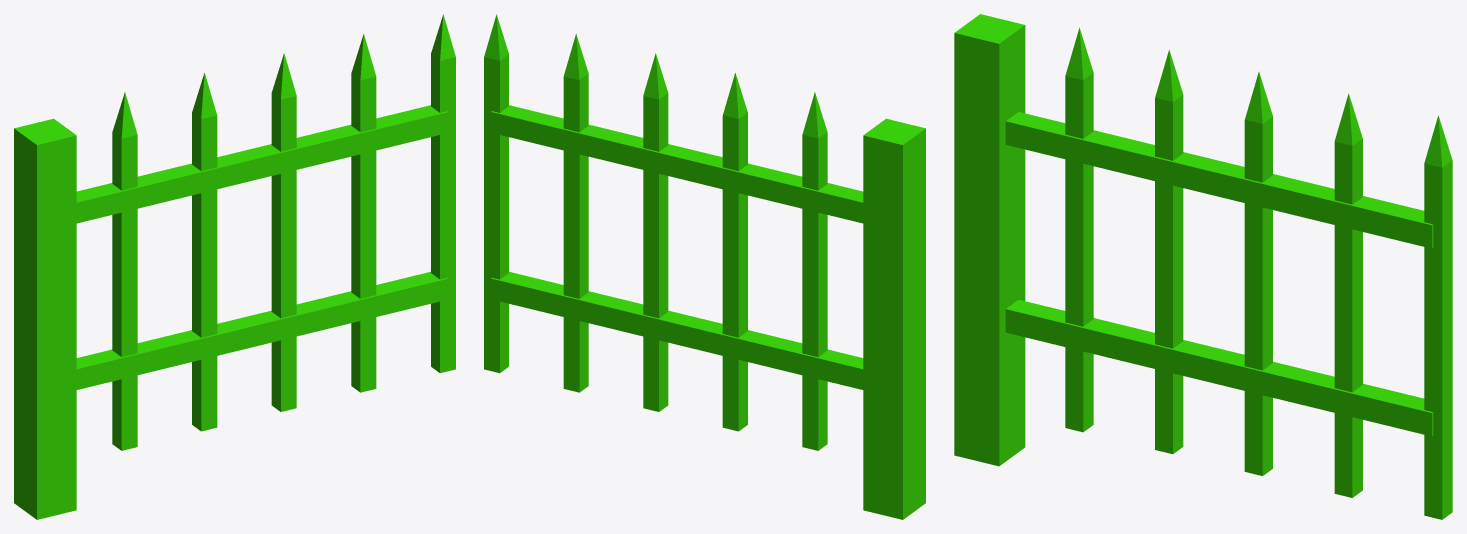
Rendered from fence1_02.fbx.
The picture shows the model from 3 angles, left to right: view 1: azimuth 30°, elevation 25°; view 2: azimuth 150°, elevation 25°; view 3: azimuth 330°, elevation 25°; orthographic projection. The views are drawn at different scales.
Visible parts, largest first — view 1: fence1_02; view 2: fence1_02; view 3: fence1_02.
Boxes of the visible parts, x1=… form: fence1_02: x1=14, y1=14, x2=455, y2=519; fence1_02: x1=484, y1=14, x2=925, y2=519; fence1_02: x1=954, y1=14, x2=1452, y2=519.
Size of the model in its own units: 107 by 95 by 10.
